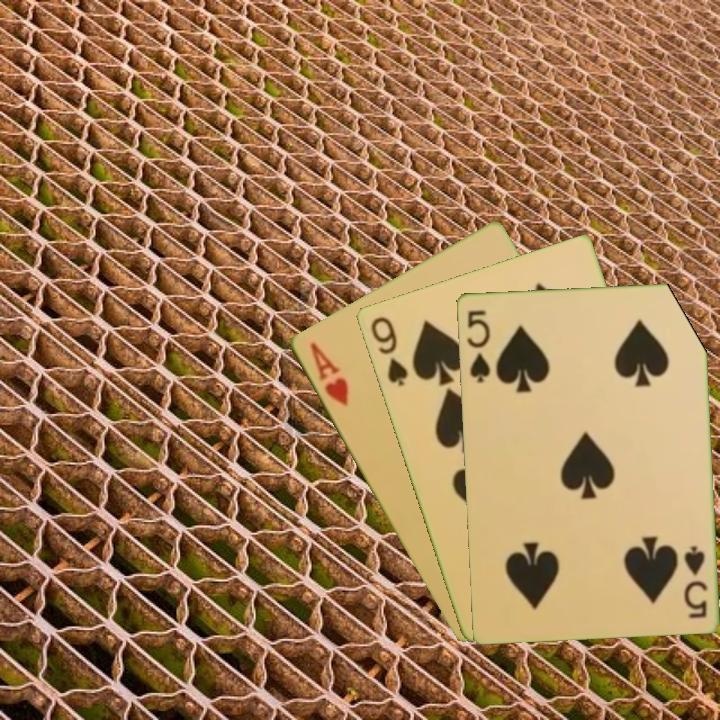5s: (463, 306, 493, 385), (680, 542, 710, 621)
9s: (366, 313, 411, 389)
Ah: (305, 338, 351, 409)
